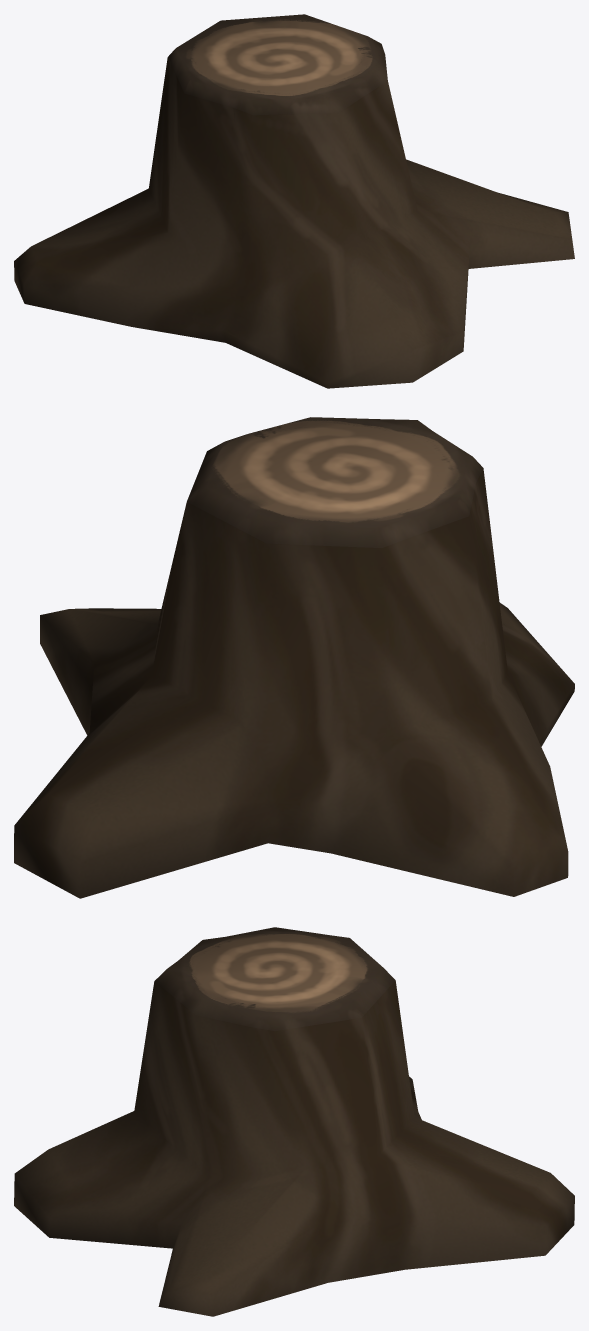
The model's file is tree_pine_stump.fbx.
3 renders of one model, top to bottom at view 1: azimuth 30°, elevation 25°; view 2: azimuth 150°, elevation 25°; view 3: azimuth 270°, elevation 25°, orthographic. The views are drawn at different scales.
Parts seen in each view (by area): view 1: pinetree_stump.001; view 2: pinetree_stump.001; view 3: pinetree_stump.001.
Boxes of the visible parts, box(x1,y1,x2,y2) form: pinetree_stump.001: box(14, 14, 574, 388); pinetree_stump.001: box(14, 417, 574, 898); pinetree_stump.001: box(14, 927, 574, 1316).
Size of the model in its own units: 195 by 92.79 by 199.
